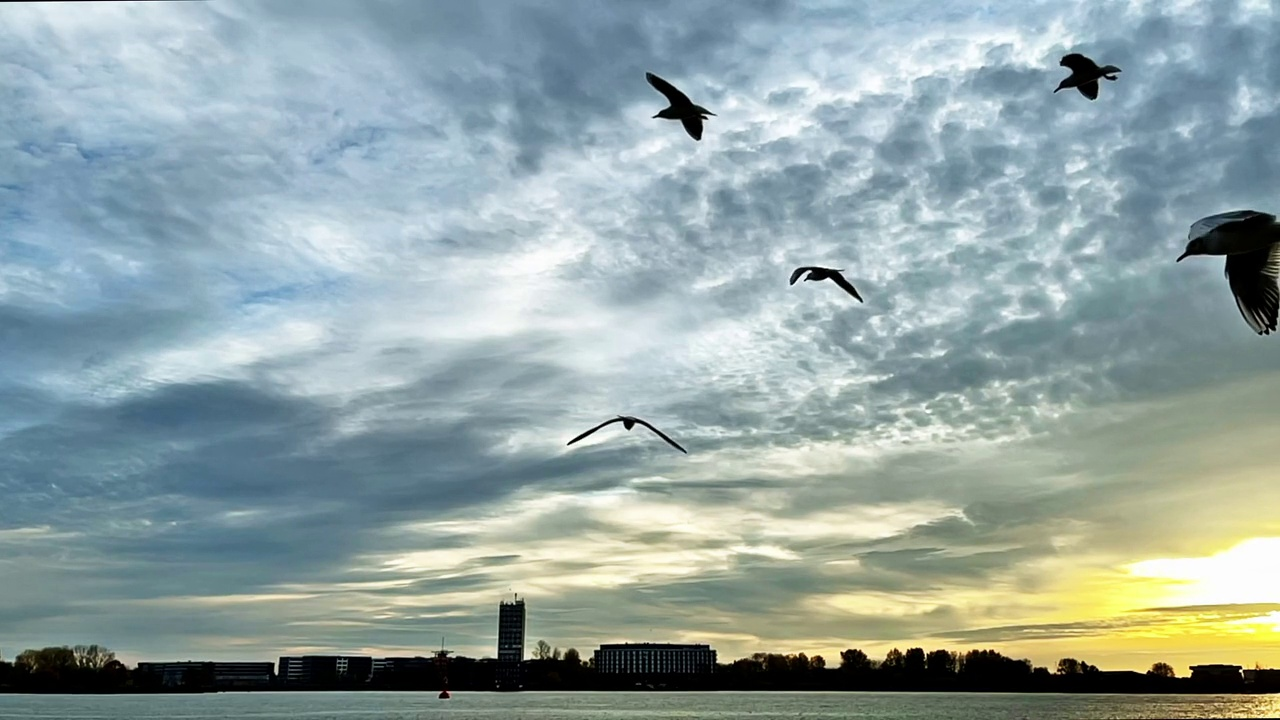bird: (1176, 210, 1280, 338), (643, 69, 714, 139), (567, 417, 686, 455), (1054, 54, 1122, 101), (791, 264, 863, 302)
